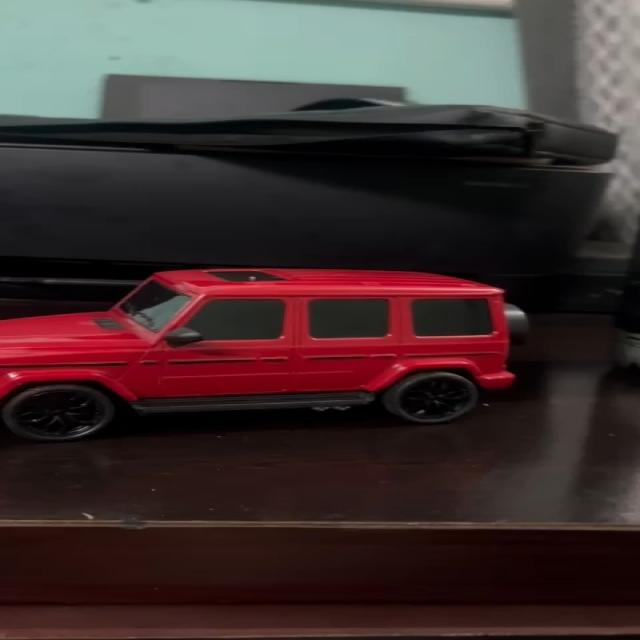light_vehicle: (0, 270, 534, 434)
